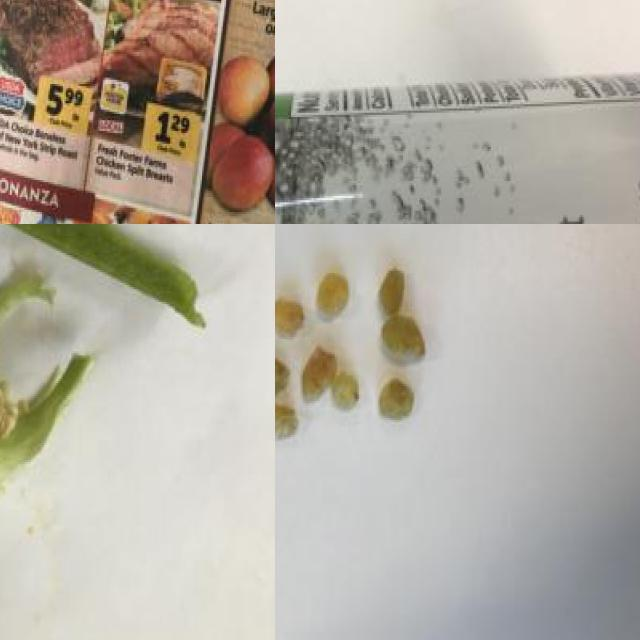compost: (0, 224, 208, 556), (275, 239, 473, 468)
paper: (0, 0, 275, 224)
plastic: (275, 87, 640, 224)
